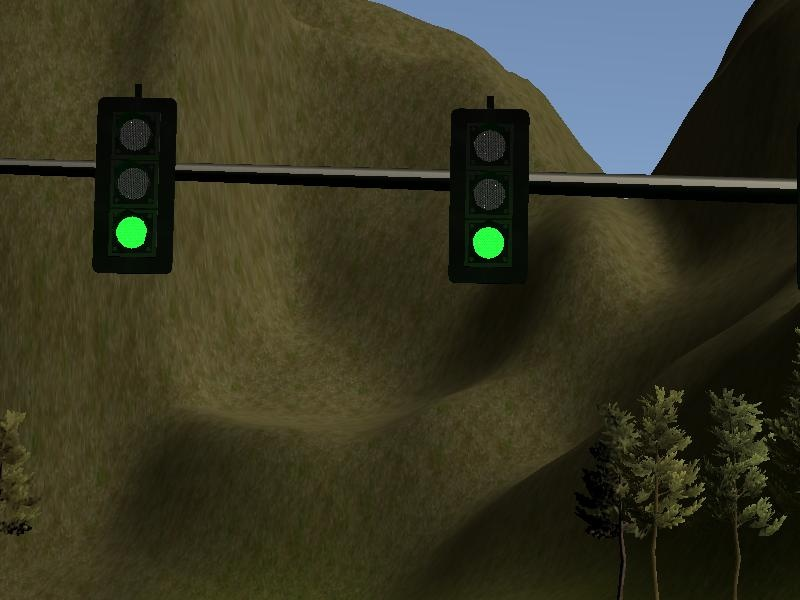GREEN: (94, 96, 177, 276), (449, 106, 532, 285)
